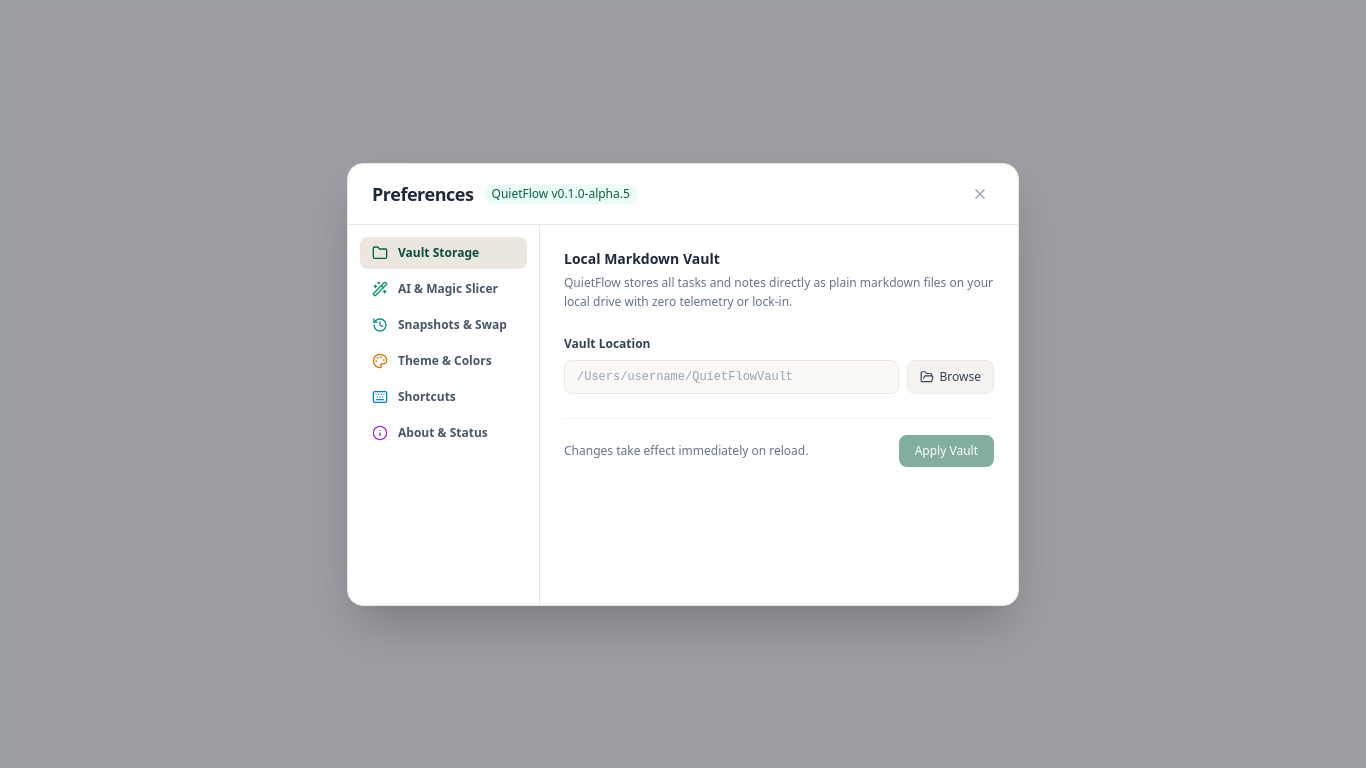
Test: SettingsModal About Tab › displays Current Version and Build Date & Time in About & Status tab
# Click on About & Status tab
Click the button "About & Status". click: (444, 432)
box: x1=360 y1=416 x2=527 y2=448
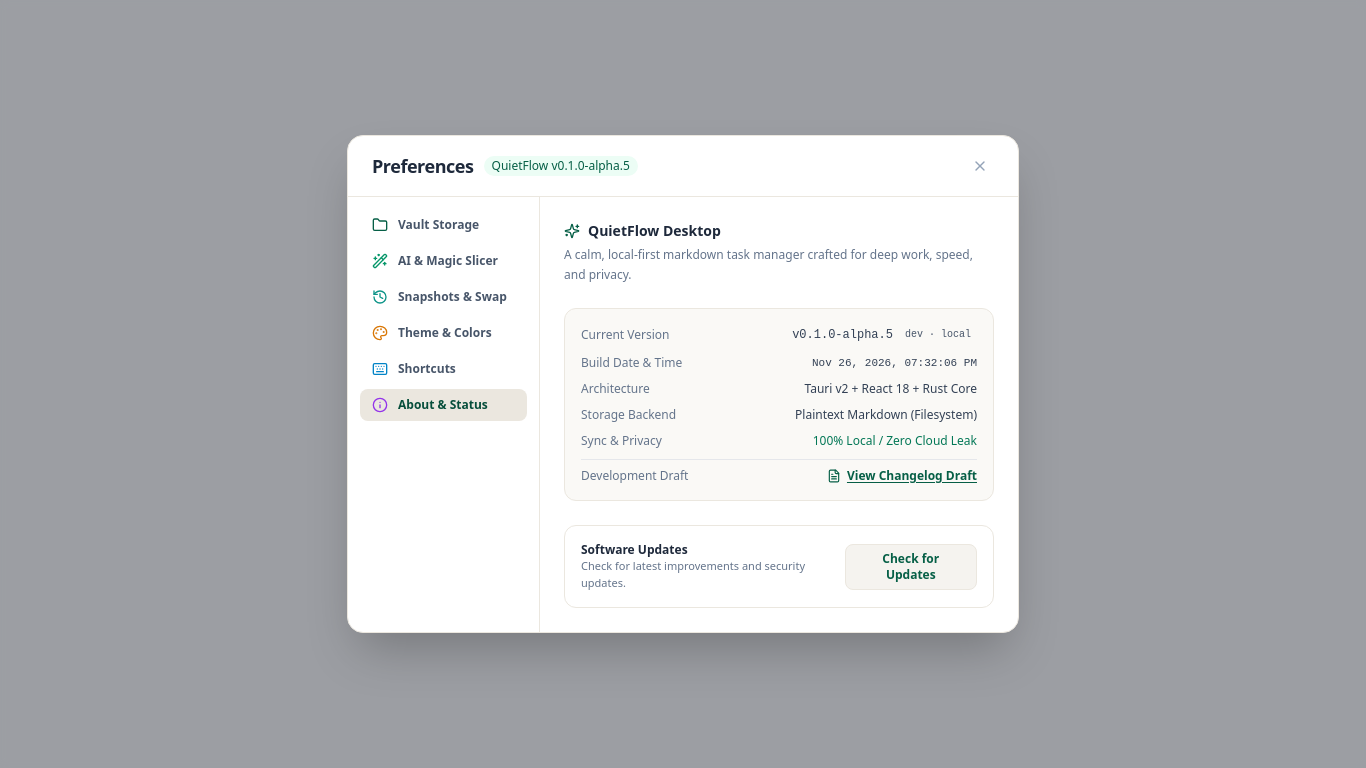
Expected: the text "QuietFlow v0.1.0-alpha.5" is shown, x1=484 y1=156 x2=638 y2=176
Expected: the text with test id "app-current-version" reads "v0.1.0-alpha.5", x1=792 y1=327 x2=893 y2=343
Expected: the text "Nov 26, 2026, 07:32:06 PM" is shown, x1=812 y1=355 x2=977 y2=371
